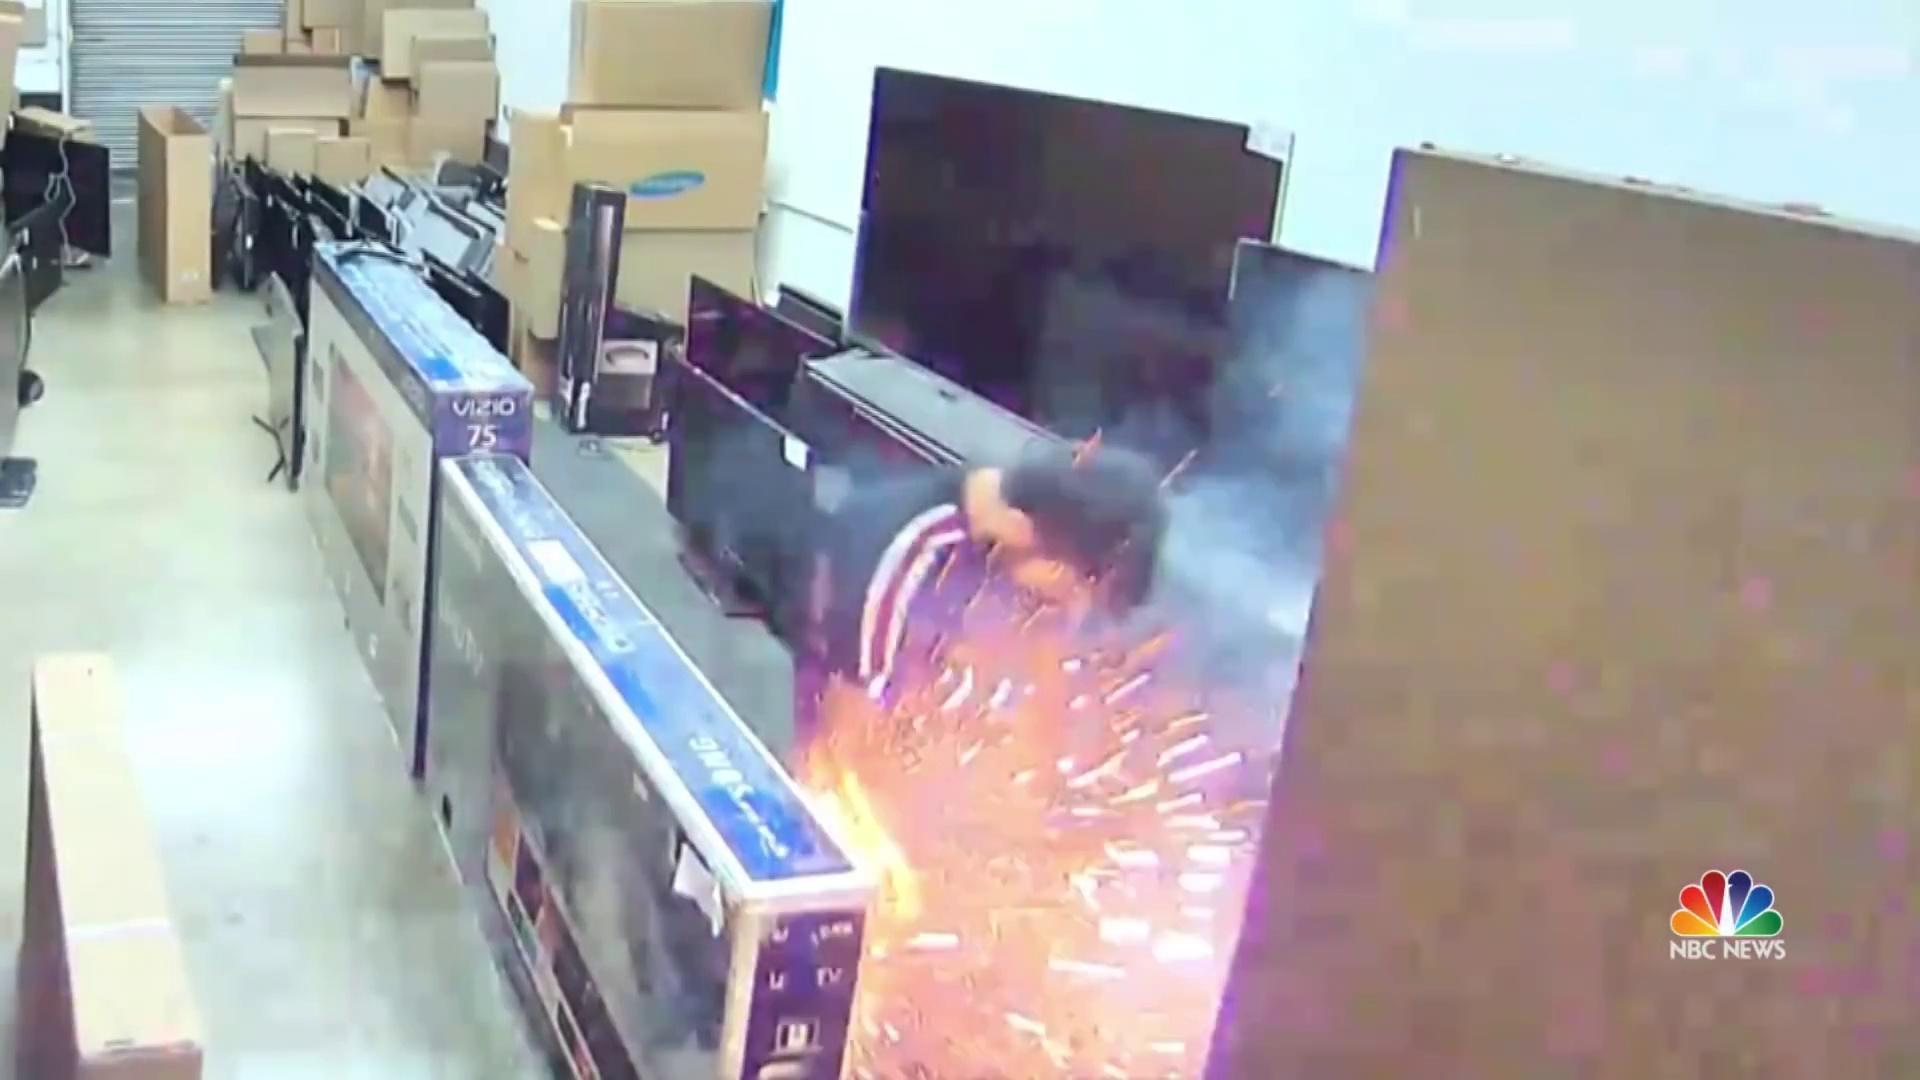fire: (773, 448, 1288, 1080)
